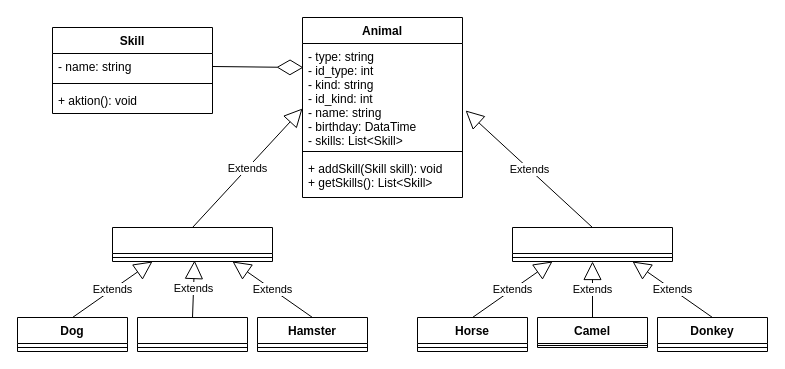
This 785x369 diagram has some shape labels left out. Here are the shapes that lost their labels. From the top down, the centre of each, then its label:
At [192,244]: "HomeAnimal".
At [592,244]: "BeastOfBurden".
At [192,334]: "Cat".
